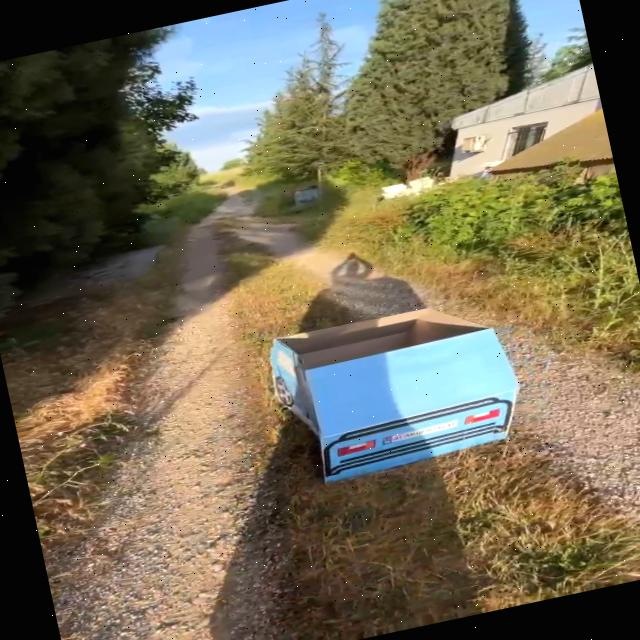blue_car: (214, 251, 571, 524)
